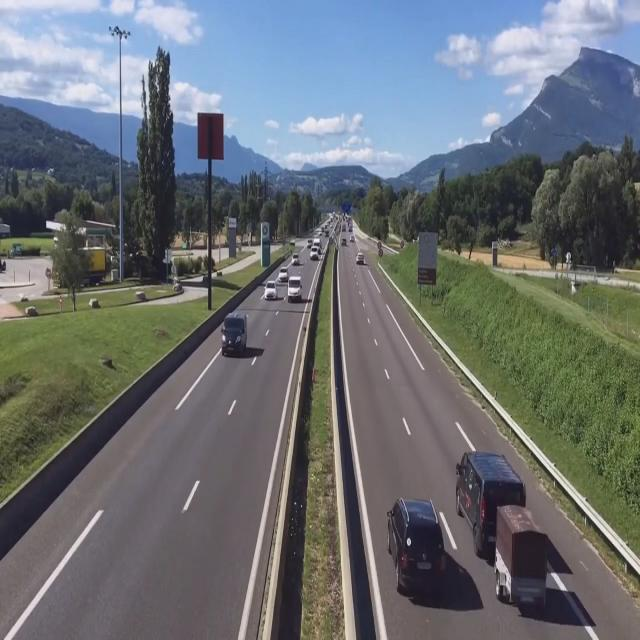car: (455, 447, 528, 560), (388, 499, 447, 605), (220, 313, 248, 362), (286, 277, 302, 303), (265, 280, 280, 300)
